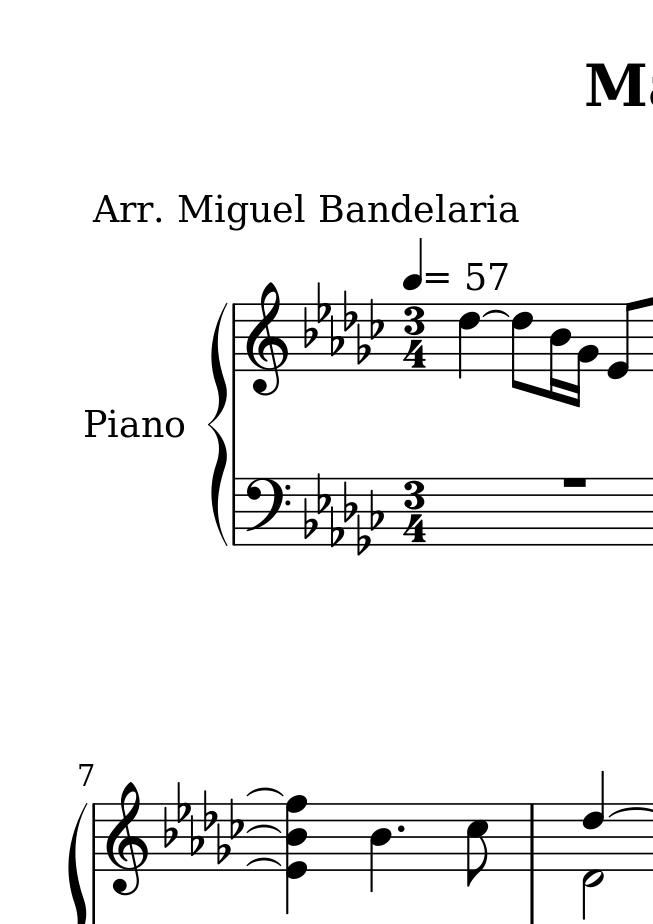16_2: (570, 302, 599, 411)
16_4: (548, 300, 573, 404)
3: (402, 479, 427, 511), (403, 304, 425, 337)
4: (401, 336, 428, 369), (402, 513, 428, 545)
4_4: (368, 802, 392, 893)
4_6: (456, 302, 480, 381)
5: (465, 259, 484, 293)
7: (486, 260, 509, 292), (78, 761, 94, 789)
8_0: (606, 299, 638, 380)
8_5: (465, 802, 489, 887)
8_6: (509, 301, 534, 393)
Brace: (211, 300, 233, 547)
Fclef: (243, 475, 291, 544)
G_F: (301, 470, 386, 554), (161, 782, 243, 867), (303, 282, 383, 361)
Gclef: (105, 781, 151, 897), (245, 281, 290, 396)
Pno: (80, 407, 184, 440)
Rests1: (559, 472, 590, 492)
Single_barline: (524, 803, 540, 870), (228, 302, 241, 372), (88, 803, 101, 872), (229, 477, 241, 545)
Slur: (245, 786, 284, 798), (244, 824, 284, 835), (243, 857, 283, 868), (482, 308, 511, 319)
Speed4: (404, 238, 450, 291)
TimeSig: (401, 302, 427, 372), (400, 477, 427, 544)
dot: (394, 822, 408, 837)
